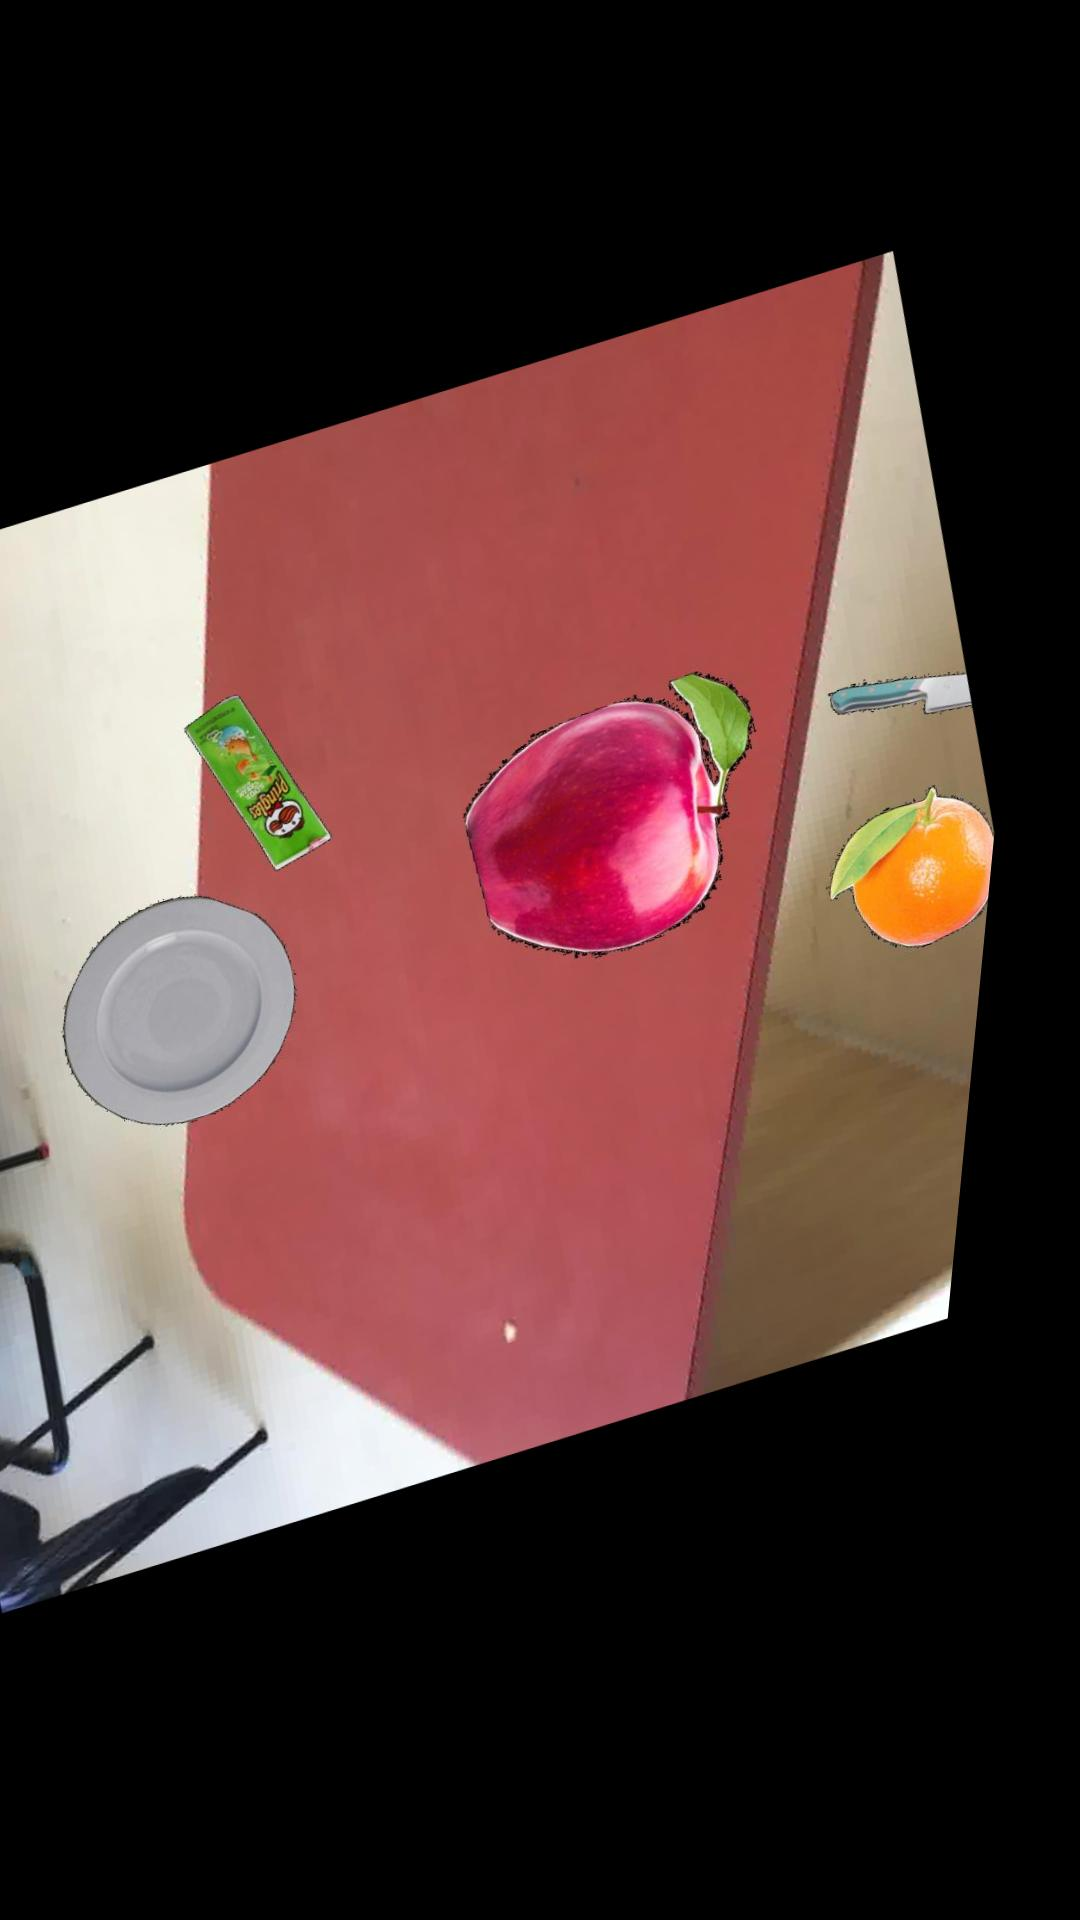apple: (480, 679, 766, 965)
knife: (841, 683, 988, 724)
orange: (845, 796, 1011, 957)
plate: (82, 898, 314, 1127)
pringles: (198, 698, 347, 873)
